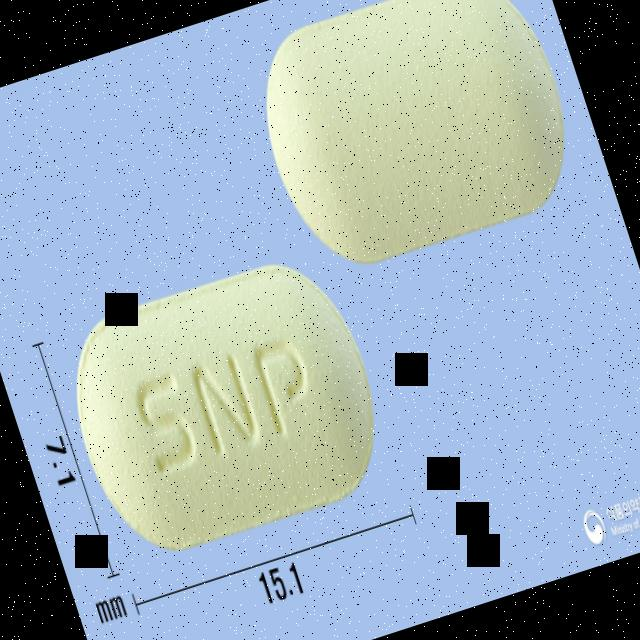A Progen Clarithromycin Tab: (49, 242, 404, 568)
